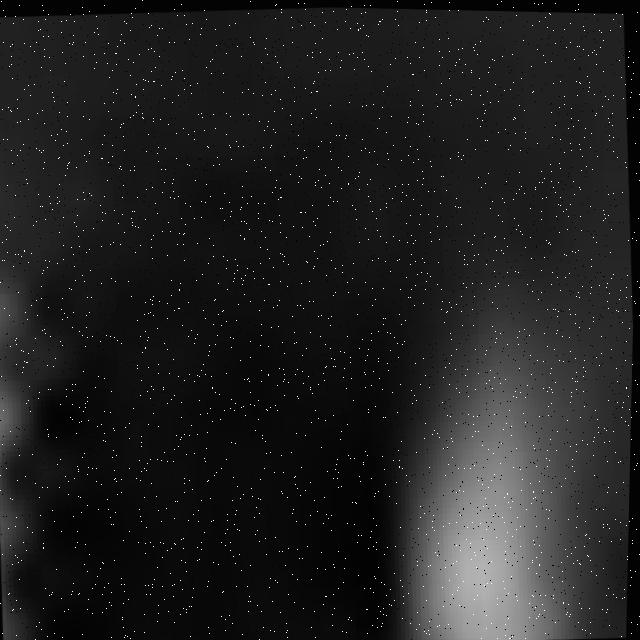person: (375, 298, 607, 640)
